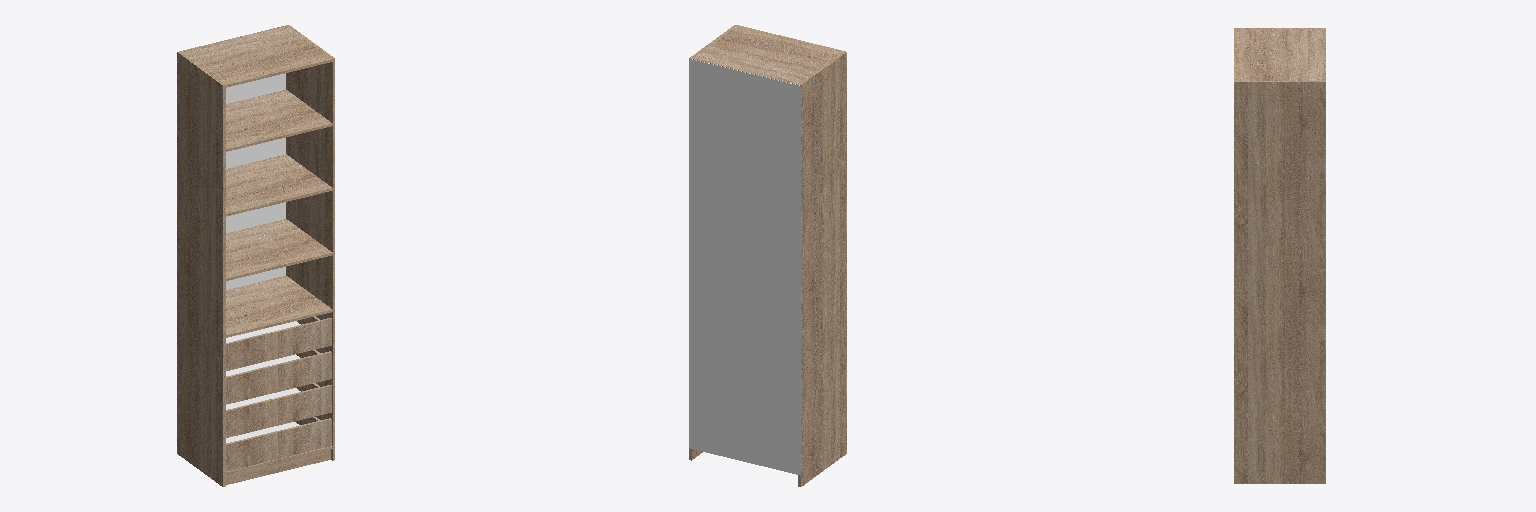
The picture shows the model from 3 angles: view 1: azimuth 30°, elevation 25°; view 2: azimuth 150°, elevation 25°; view 3: azimuth 270°, elevation 25°; orthographic projection.
Size of the model in its own units: 700 by 2400 by 503.
Materials: 4 (2 with a texture image).